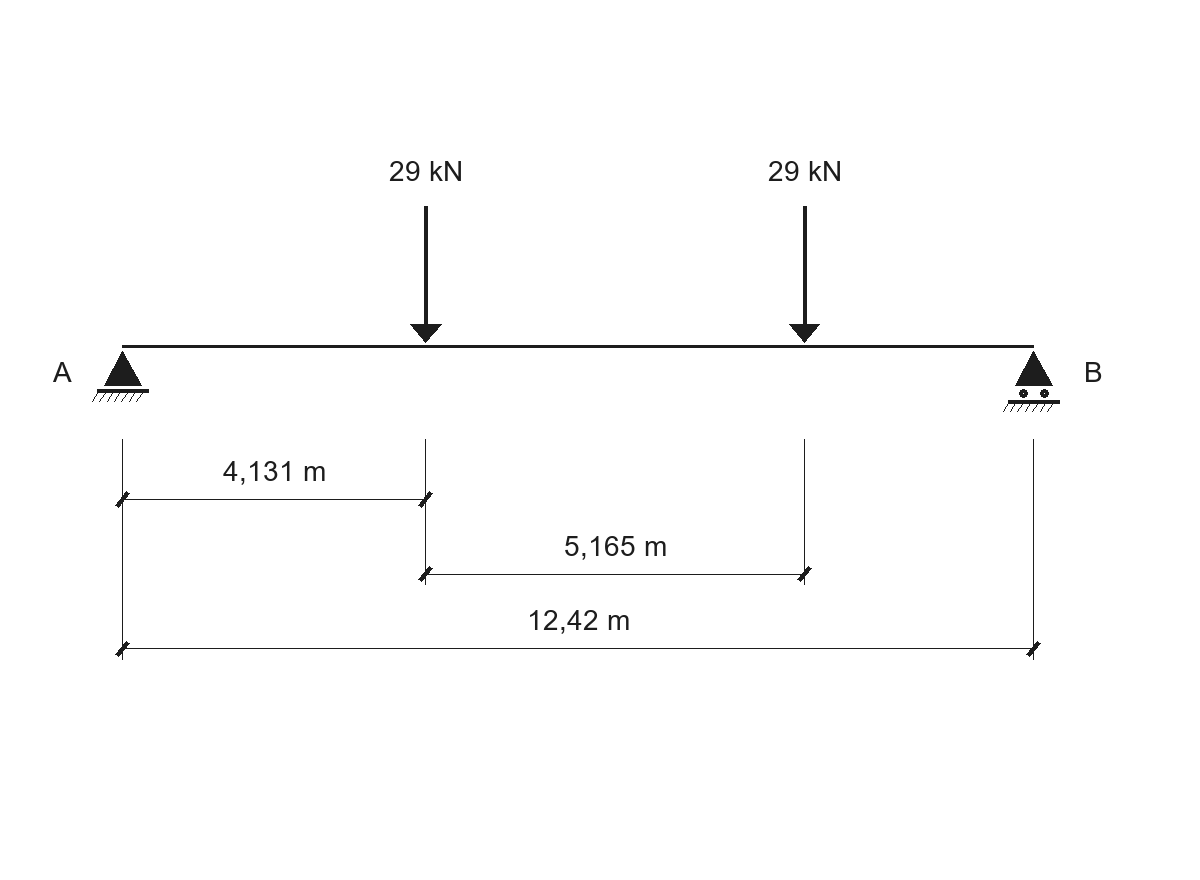pin_support: (92, 351, 149, 402)
point_load: (410, 206, 442, 343), (789, 206, 820, 343)
roller_support: (1003, 351, 1060, 412)
